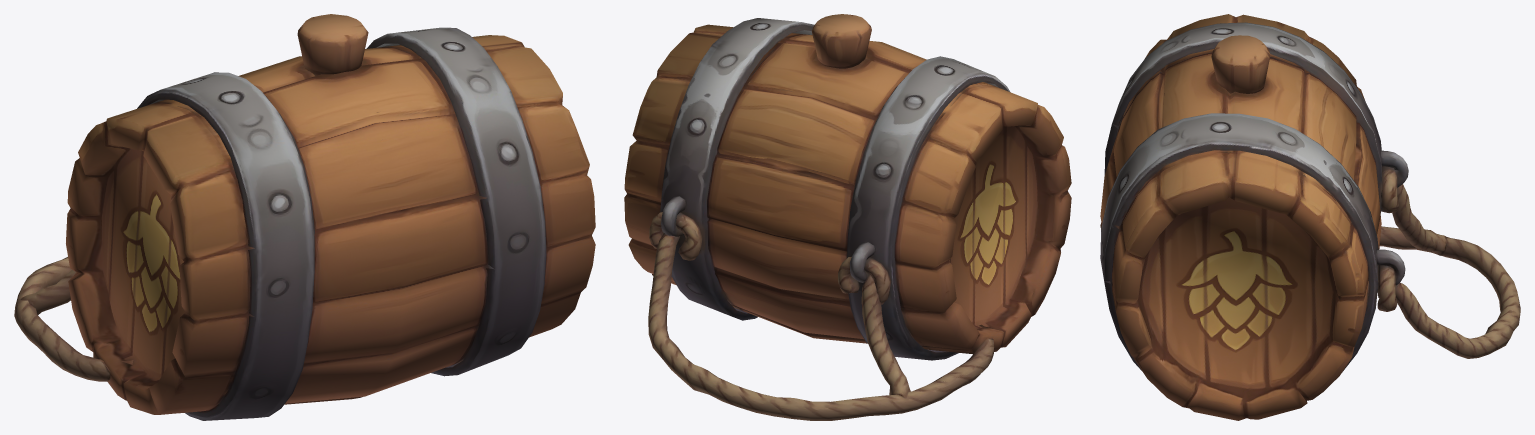
File: keg_tripo.glb
The picture shows the model from 3 angles, left to right: view 1: azimuth 30°, elevation 25°; view 2: azimuth 150°, elevation 25°; view 3: azimuth 270°, elevation 25°; orthographic projection. The views are drawn at different scales.
Visible parts, largest first — view 1: tripo_node_1ab166b8-9cde-4237-b506-178308c4703f; view 2: tripo_node_1ab166b8-9cde-4237-b506-178308c4703f; view 3: tripo_node_1ab166b8-9cde-4237-b506-178308c4703f.
Boxes of the visible parts, x1=… form: tripo_node_1ab166b8-9cde-4237-b506-178308c4703f: x1=14, y1=14, x2=595, y2=420; tripo_node_1ab166b8-9cde-4237-b506-178308c4703f: x1=624, y1=14, x2=1071, y2=420; tripo_node_1ab166b8-9cde-4237-b506-178308c4703f: x1=1100, y1=14, x2=1520, y2=420.
Size of the model in its own units: 0.9863 by 0.8262 by 0.998.
Materials: 1 (1 with a texture image).
